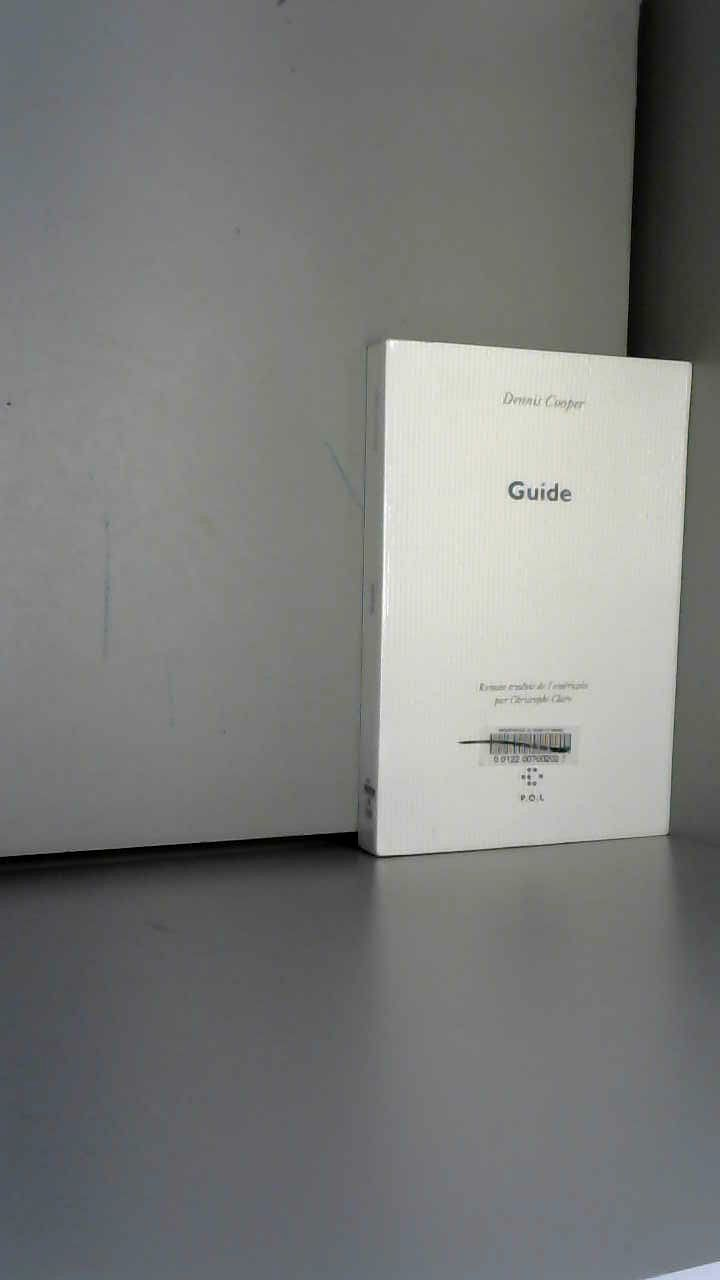book: (350, 310, 720, 937)
